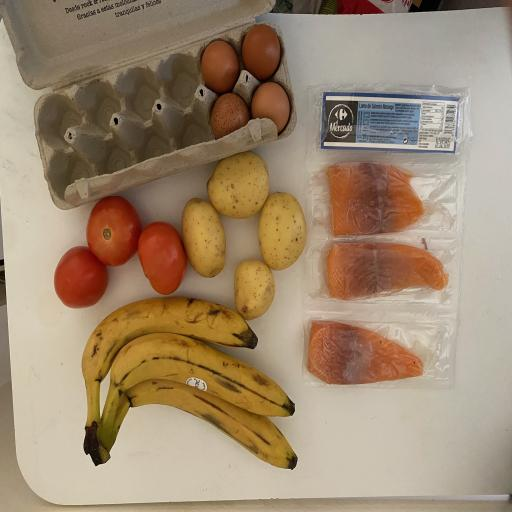banana: (96, 326, 298, 474), (78, 292, 260, 455), (94, 376, 302, 477)
egg: (249, 78, 294, 139), (240, 19, 283, 82), (198, 34, 240, 93), (209, 88, 251, 146)
potato: (205, 151, 271, 221), (258, 189, 310, 274), (180, 192, 228, 282), (232, 255, 276, 323)
salmon: (304, 316, 430, 389), (323, 159, 429, 240), (323, 237, 453, 302)
tomato: (51, 239, 111, 317), (84, 192, 144, 269), (135, 219, 190, 297)
